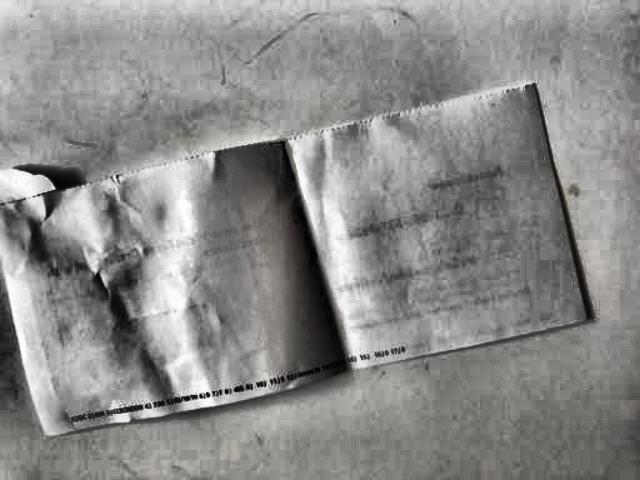Paper: (0, 79, 599, 433)
